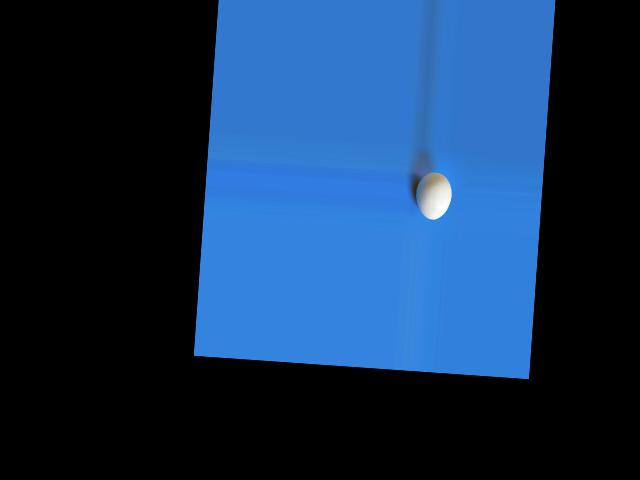egg: (414, 170, 452, 221)
